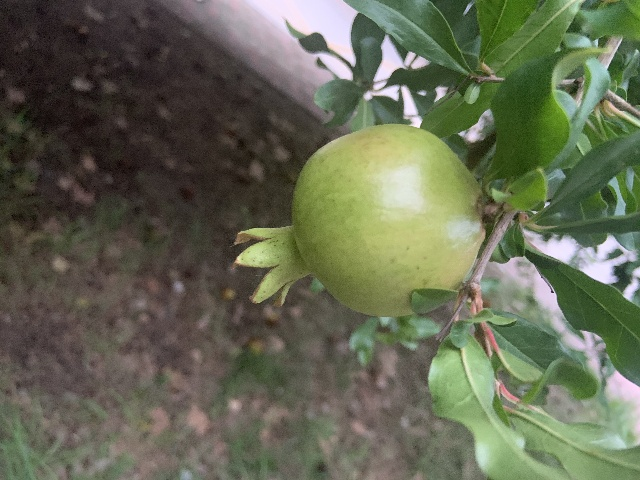mid-growth: (232, 123, 484, 316)
